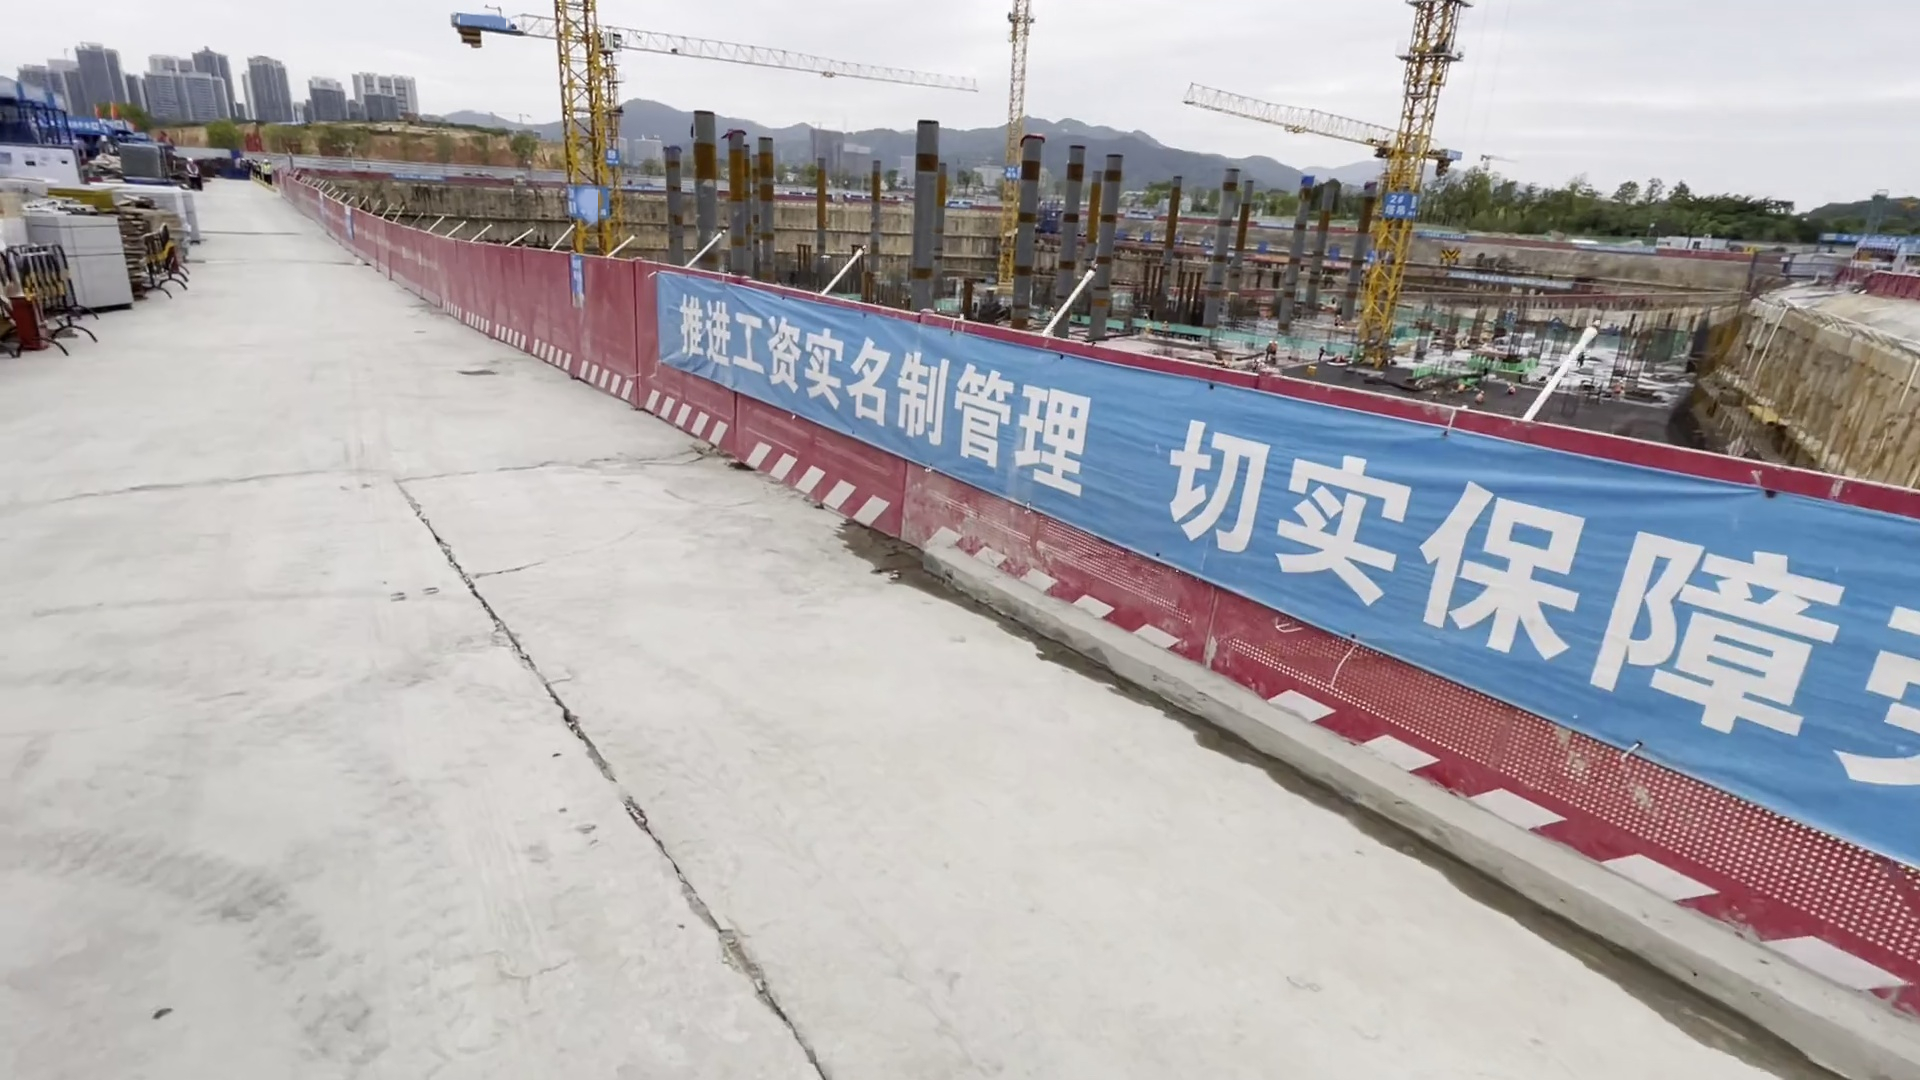brick: (24, 208, 135, 318)
fence: (257, 175, 651, 421)
slogan: (682, 290, 1920, 898)
